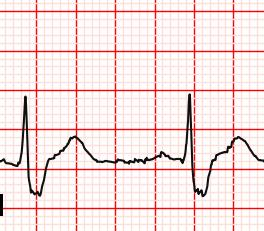ST Depression: (13, 156, 53, 200), (181, 155, 221, 197)
